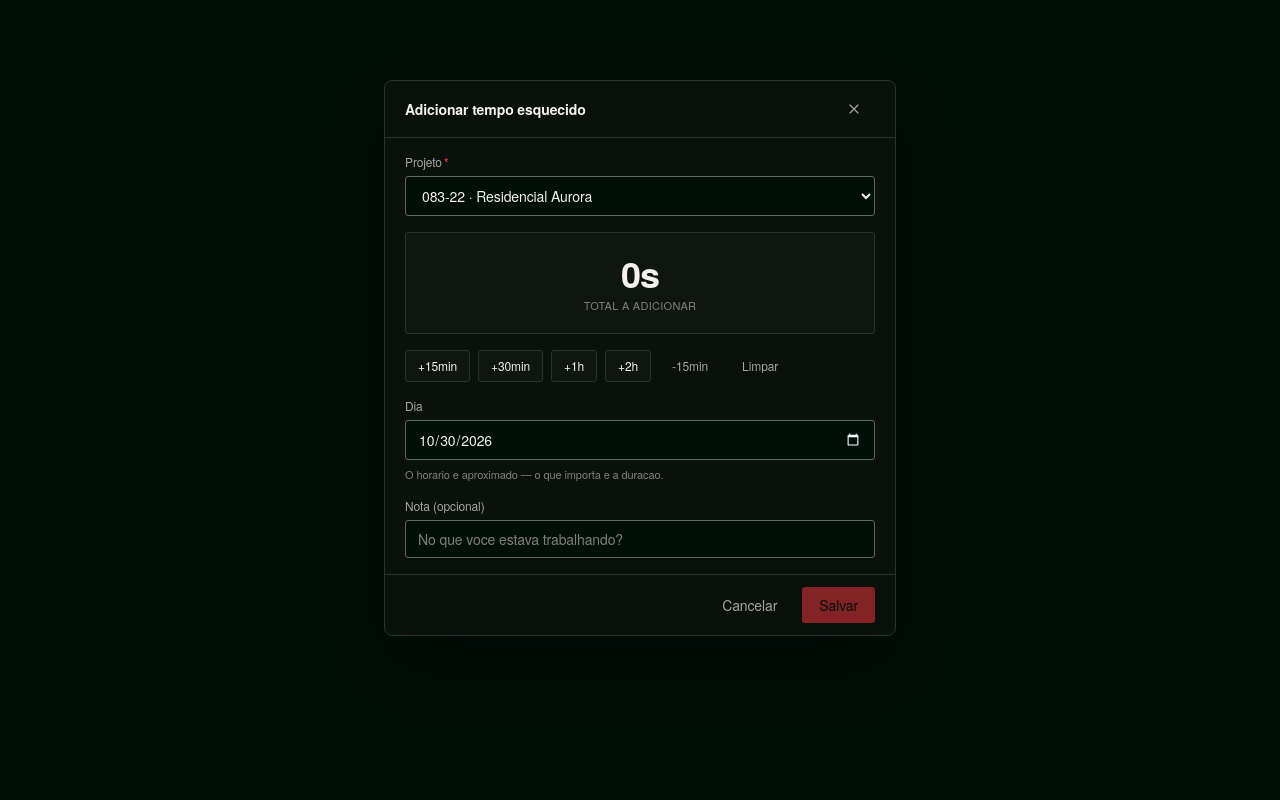
Test case: QuickTimeModal › Limpar zera o total
The image size is (1280, 800).
Click the button "+2h" at (628, 366), box [605,350,651,382]
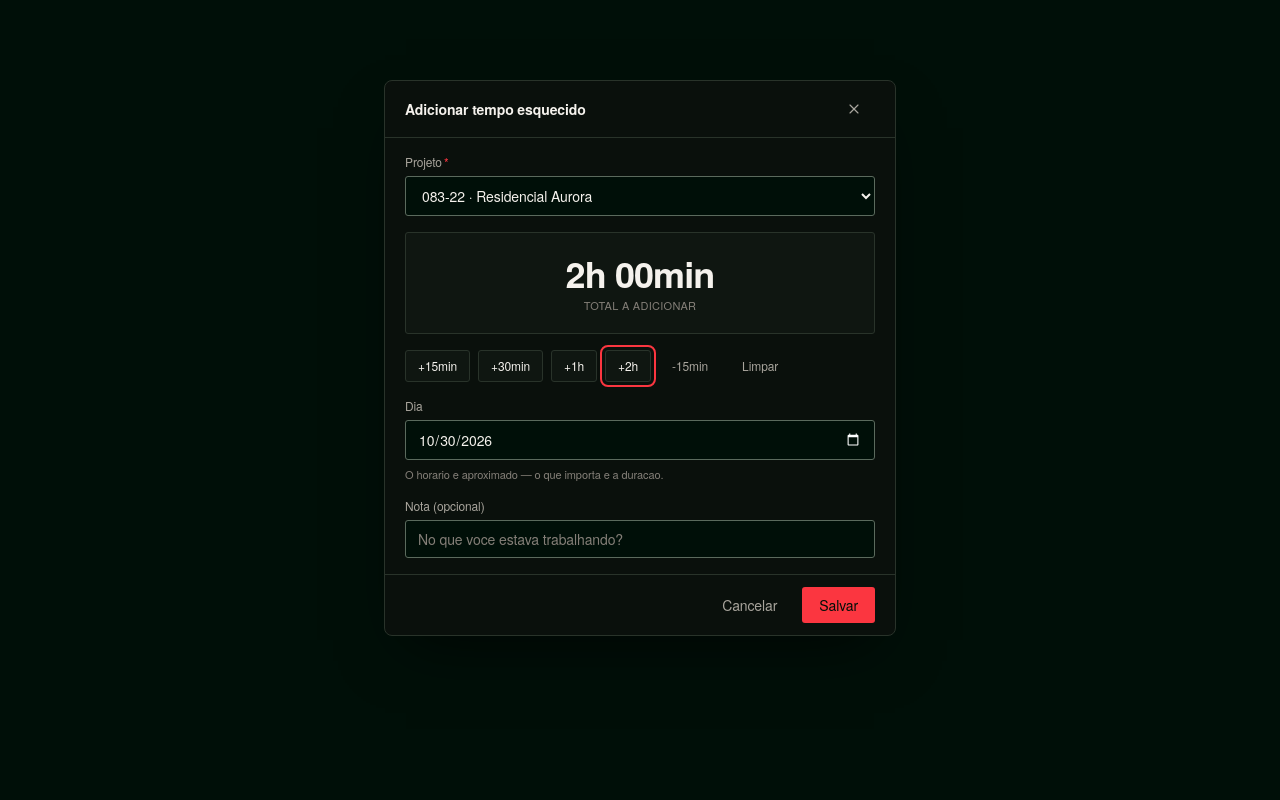
Click the button "Limpar" at (760, 366), box [729,350,791,382]
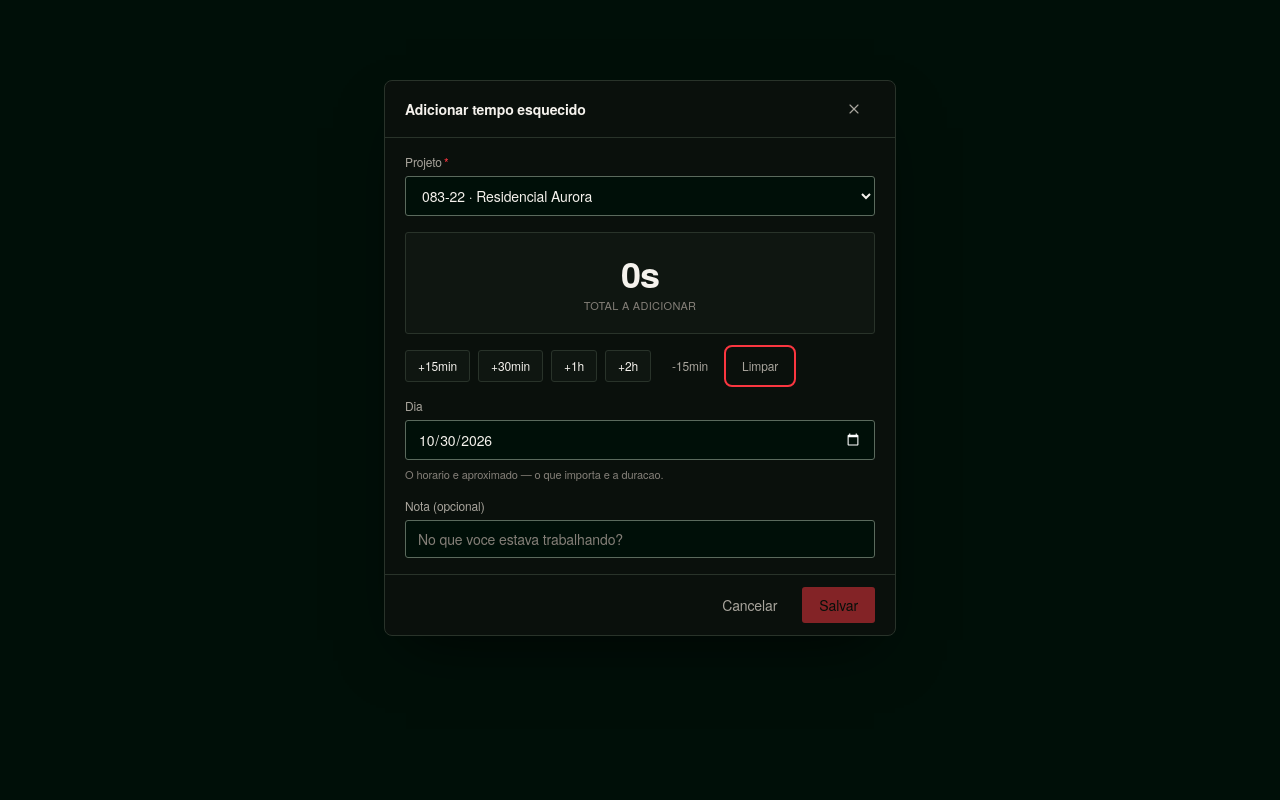
Result: the text with test id "quick-total" reads "0s" at [621,247,659,299]
